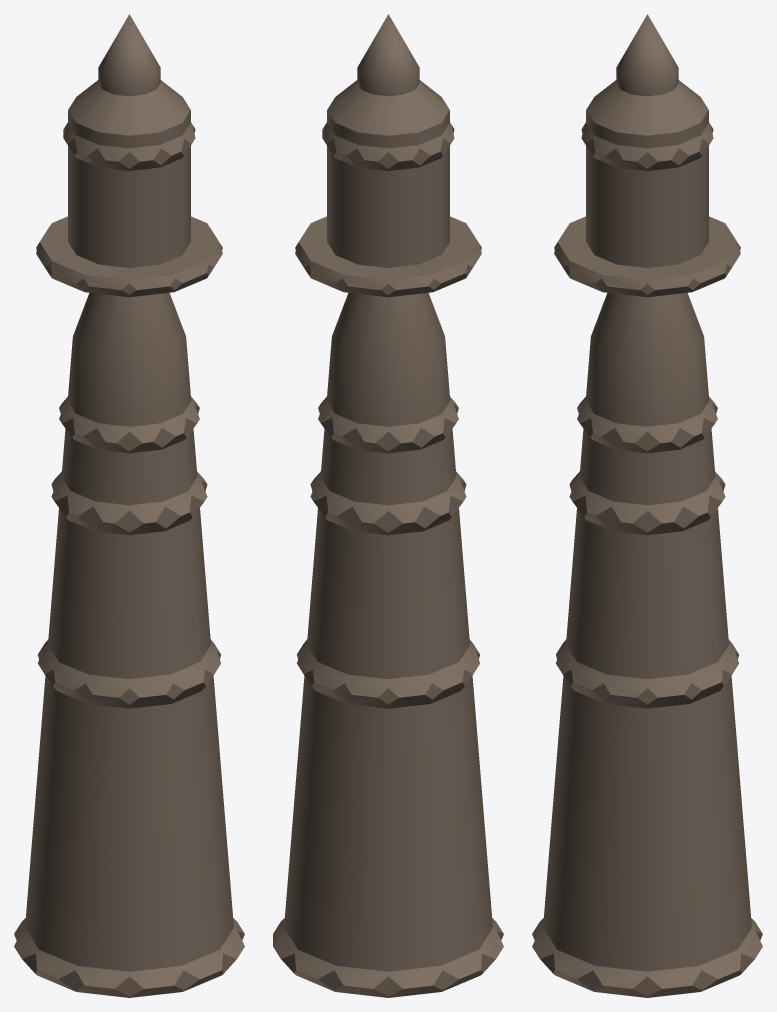
The model's file is tower_20210125.fbx.
3 renders of one model, left to right at view 1: azimuth 30°, elevation 25°; view 2: azimuth 150°, elevation 25°; view 3: azimuth 270°, elevation 25°, orthographic.
Visible parts, largest first — view 1: Circle.022; view 2: Circle.022; view 3: Circle.022.
Boxes of the visible parts, bbox=[...] form: Circle.022: bbox=[14, 14, 244, 997]; Circle.022: bbox=[273, 14, 503, 997]; Circle.022: bbox=[532, 14, 762, 997].
Size of the model in its own units: 63 by 283 by 63.
